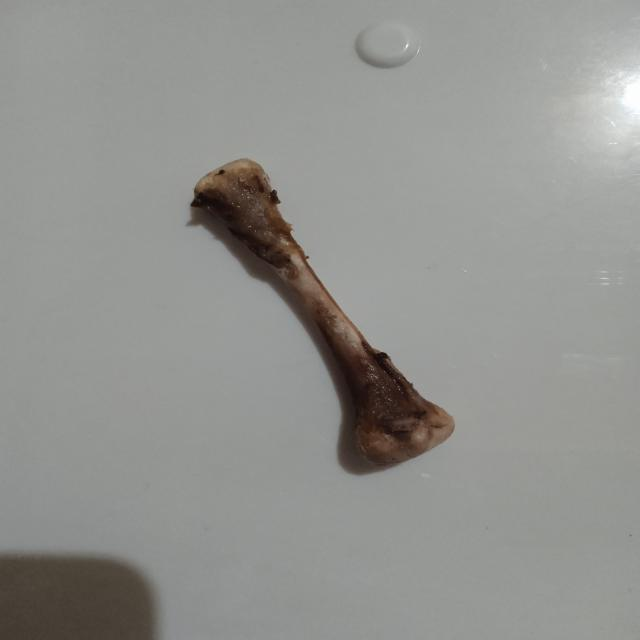bone: (185, 154, 460, 474)
